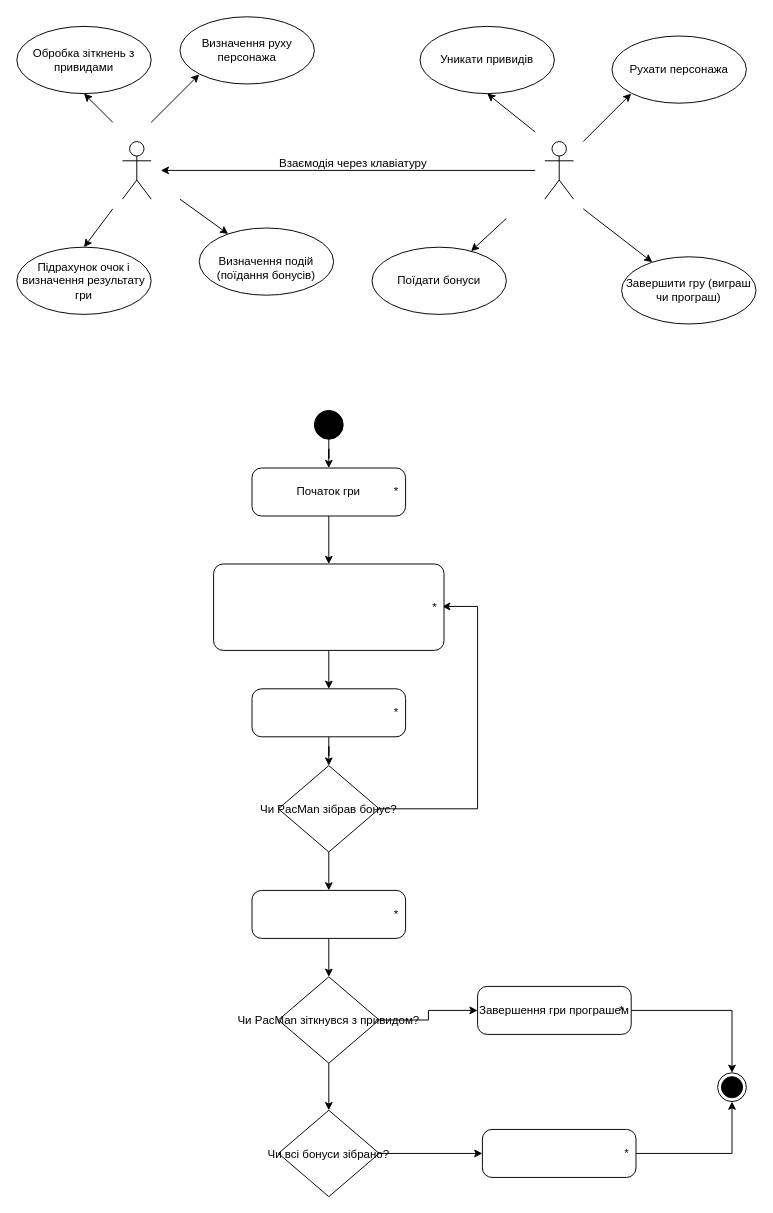
This 773x1213 diagram has some shape labels left out. The box of each missing label's shape, as (x1, y1, x2, y2) in pixels:
Game: (121, 141, 151, 199)
Player: (544, 141, 574, 199)
Завершення гри виграшем: (481, 1128, 636, 1177)
Обробка команд гравця (рух PacMan): (213, 563, 444, 650)
Оновлюється рахунок: (251, 889, 406, 938)
Рух привидів: (251, 688, 406, 737)
